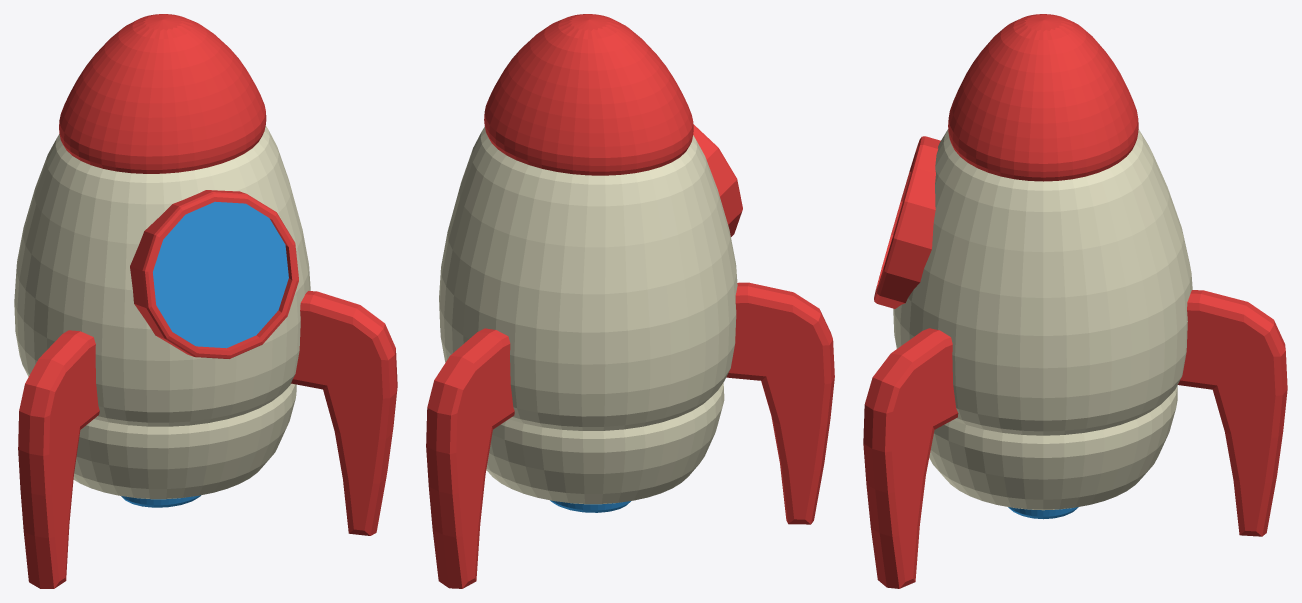
Rendered from Spaceship.glb.
3 renders of one model, left to right at view 1: azimuth 30°, elevation 25°; view 2: azimuth 150°, elevation 25°; view 3: azimuth 270°, elevation 25°, orthographic.
Parts seen in each view (by area): view 1: Spaceship; view 2: Spaceship; view 3: Spaceship.
Part boxes in pixels (bbox=[...]): Spaceship: bbox=[14, 14, 397, 588]; Spaceship: bbox=[426, 14, 834, 588]; Spaceship: bbox=[863, 14, 1287, 588].
Size of the model in its own units: 0.9051 by 1.21 by 0.9343.
